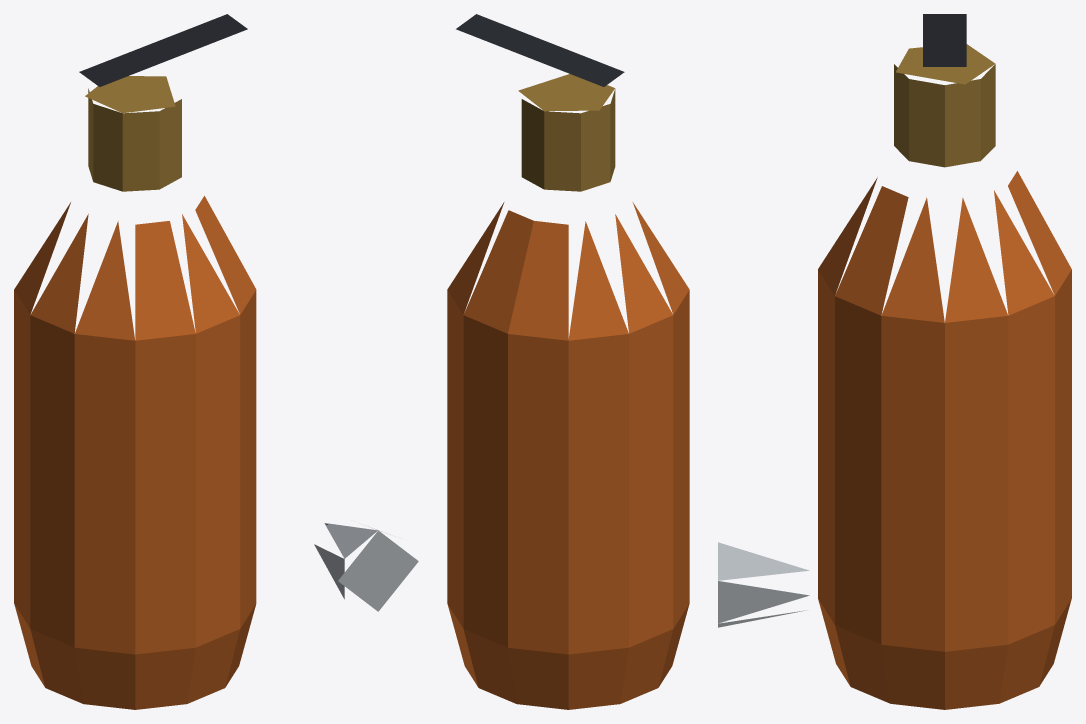
Rendered from fire-extinguisher.lod.glb.
3 views of the same model, side by side, from view 1: azimuth 30°, elevation 25°; view 2: azimuth 150°, elevation 25°; view 3: azimuth 270°, elevation 25° (orthographic). The views are drawn at different scales.
Parts seen in each view (by area): view 1: m; view 2: m; view 3: m.
Part boxes in pixels (x1=…): m: x1=14, y1=14, x2=418, y2=709; m: x1=447, y1=14, x2=689, y2=709; m: x1=718, y1=14, x2=1071, y2=709.
Bounding box in the file's own units: 0.0947 × 0.2 × 0.0988.
